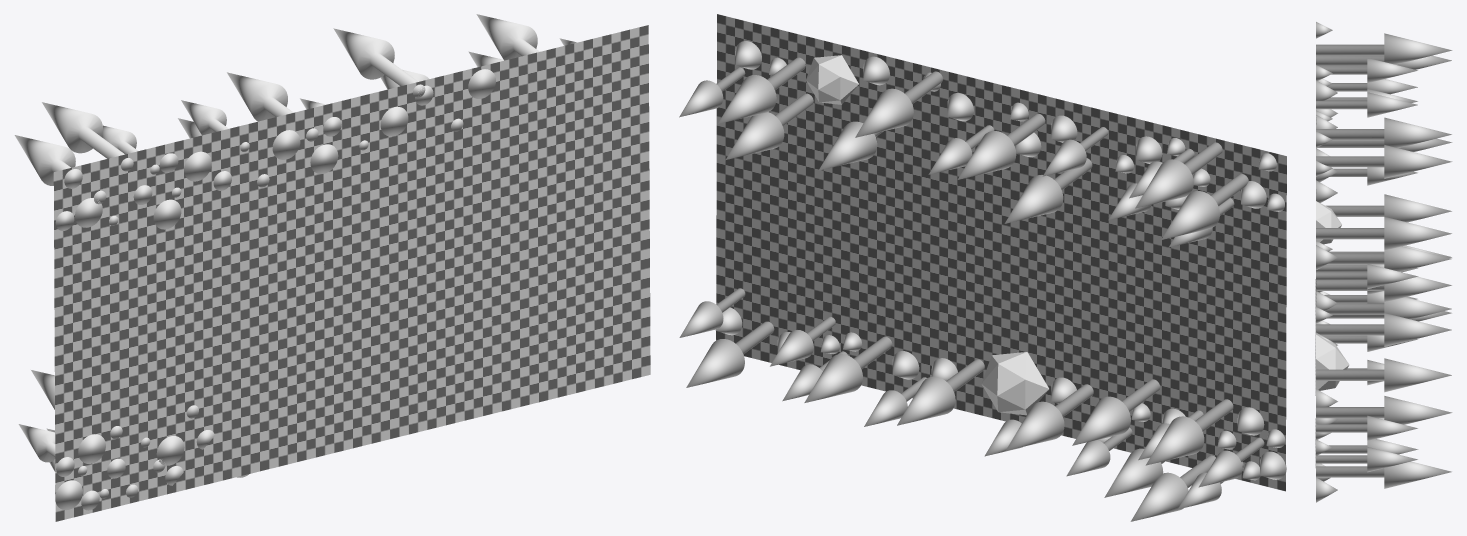
File: forest03.dae
The picture shows the model from 3 angles, left to right: view 1: azimuth 30°, elevation 25°; view 2: azimuth 150°, elevation 25°; view 3: azimuth 270°, elevation 25°; orthographic projection. The views are drawn at different scales.
Visible parts, largest first — view 1: Plane.002, Cone.064, Cone.179, Cone.074, Cone.173, Cone.062, Cone.191, Cone.087, Cone.194; view 2: Plane.002, Icosphere, Cone.076, Cone.073, Cone.051, Cone.062, Cone.190, Cone.064, Cone.086, Cone.056, Cone.074, Cone.179 (+17 smaller); view 3: Cone.062, Cone.073, Cone.076, Cone.179, Cone.064, Cone.056, Cone.074, Cone.051, Cone.197, Cone.193, Cone.190, Cone.189 (+28 smaller).
Part boxes in pixels (left/top/right/bottom): Plane.002: left=53, top=25, right=650, bottom=521; Cone.064: left=333, top=28, right=425, bottom=97; Cone.179: left=42, top=102, right=133, bottom=171; Cone.074: left=227, top=72, right=318, bottom=141; Cone.173: left=14, top=135, right=106, bottom=204; Cone.062: left=476, top=14, right=539, bottom=60; Cone.191: left=181, top=100, right=249, bottom=151; Cone.087: left=18, top=424, right=87, bottom=475; Cone.194: left=101, top=125, right=159, bottom=174; Plane.002: left=716, top=14, right=1286, bottom=491; Icosphere: left=981, top=352, right=1048, bottom=415; Cone.076: left=1005, top=384, right=1093, bottom=450; Cone.073: left=897, top=359, right=984, bottom=425; Cone.051: left=686, top=321, right=774, bottom=387; Cone.062: left=718, top=57, right=805, bottom=123; Cone.190: left=1072, top=379, right=1160, bottom=445; Cone.064: left=855, top=71, right=942, bottom=137; Cone.086: left=1145, top=399, right=1233, bottom=465; Cone.056: left=804, top=336, right=892, bottom=402; Cone.074: left=957, top=113, right=1045, bottom=179; Cone.179: left=1135, top=142, right=1222, bottom=208; Cone.062: left=1316, top=216, right=1451, bottom=250; Cone.073: left=1316, top=358, right=1451, bottom=392; Cone.076: left=1316, top=313, right=1451, bottom=346; Cone.179: left=1316, top=33, right=1452, bottom=64; Cone.064: left=1316, top=145, right=1452, bottom=178; Cone.056: left=1316, top=396, right=1452, bottom=424; Cone.074: left=1316, top=117, right=1451, bottom=147; Cone.051: left=1316, top=461, right=1451, bottom=488; Cone.197: left=1326, top=194, right=1451, bottom=222; Cone.193: left=1327, top=246, right=1451, bottom=271; Cone.190: left=1316, top=276, right=1451, bottom=302; Cone.189: left=1325, top=297, right=1451, bottom=319.
Size of the model in its own units: 64.16 by 16.1 by 37.96.
Materials: 1 (1 with a texture image).
